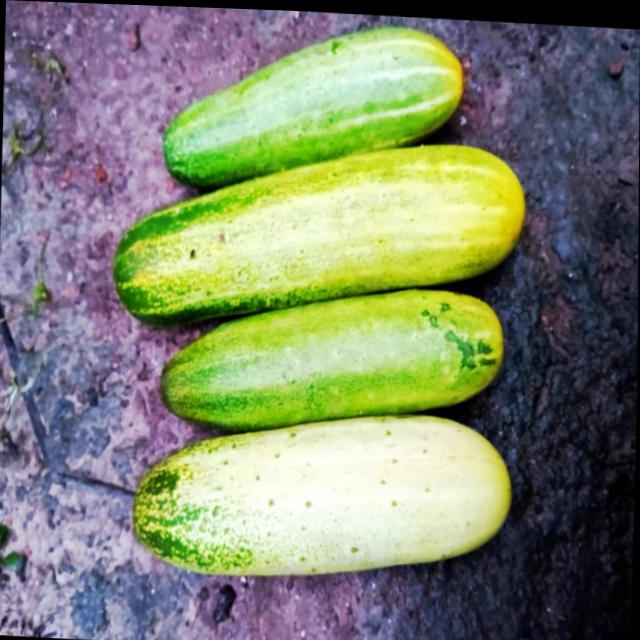Fresh-Cucumber: (110, 123, 528, 345), (130, 397, 518, 590), (156, 268, 506, 441), (162, 12, 468, 196)
